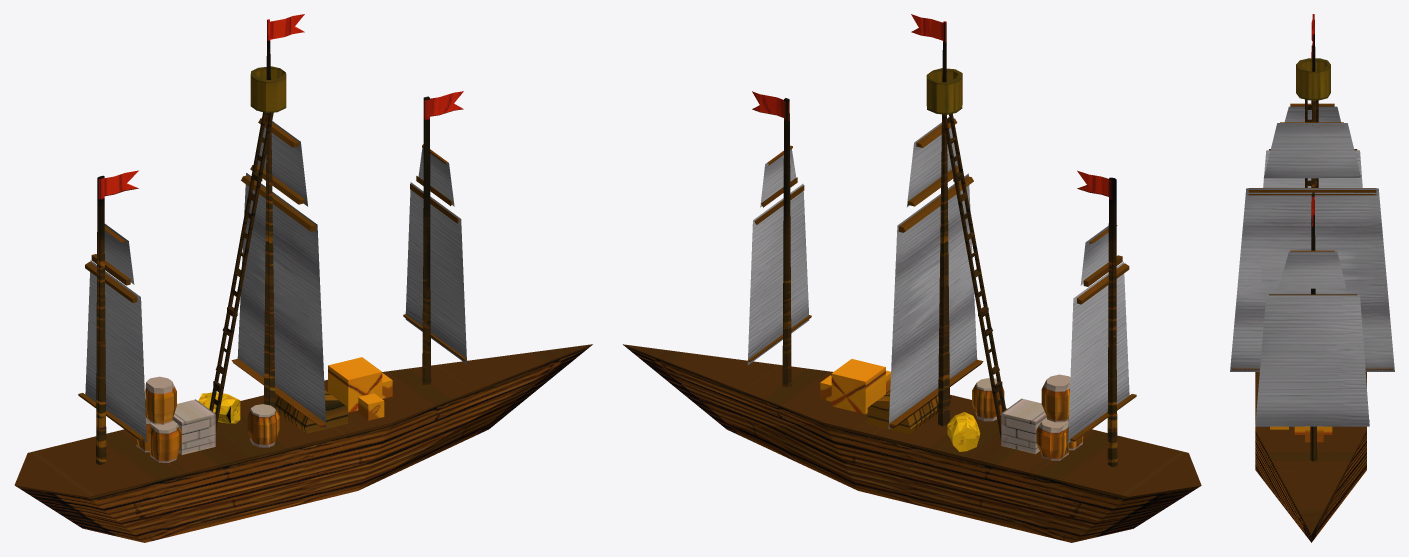
The model's file is Boat.glb.
3 renders of one model, left to right at view 1: azimuth 30°, elevation 25°; view 2: azimuth 150°, elevation 25°; view 3: azimuth 270°, elevation 25°, orthographic. The views are drawn at different scales.
Visible parts, largest first — view 1: Boat; view 2: Boat; view 3: Boat.
Part boxes in pixels (<box>): Boat: <box>14,14,592,542</box>; Boat: <box>623,14,1201,542</box>; Boat: <box>1230,14,1394,542</box>.
Bounding box in the file's own units: 423 × 322 × 112.
Materials: 1 (1 with a texture image).
